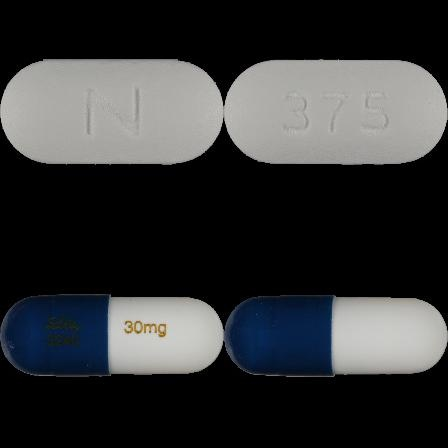63629-4146: (0, 0, 224, 224)
